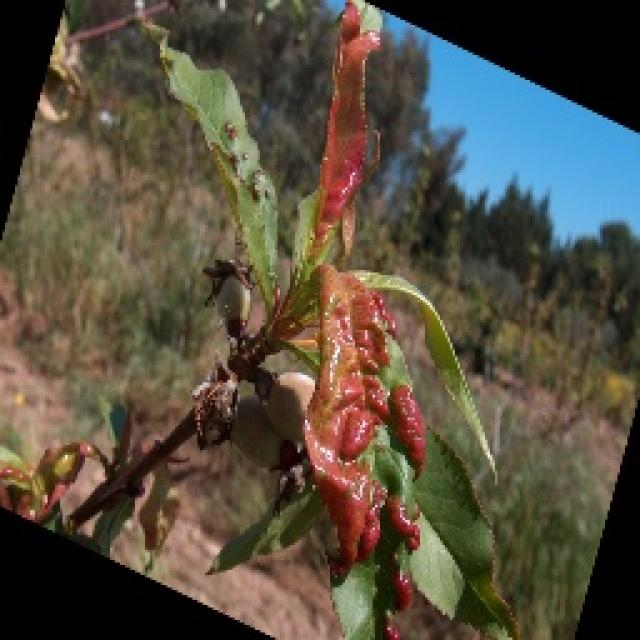peach_leaf_curl: (295, 260, 427, 638)
